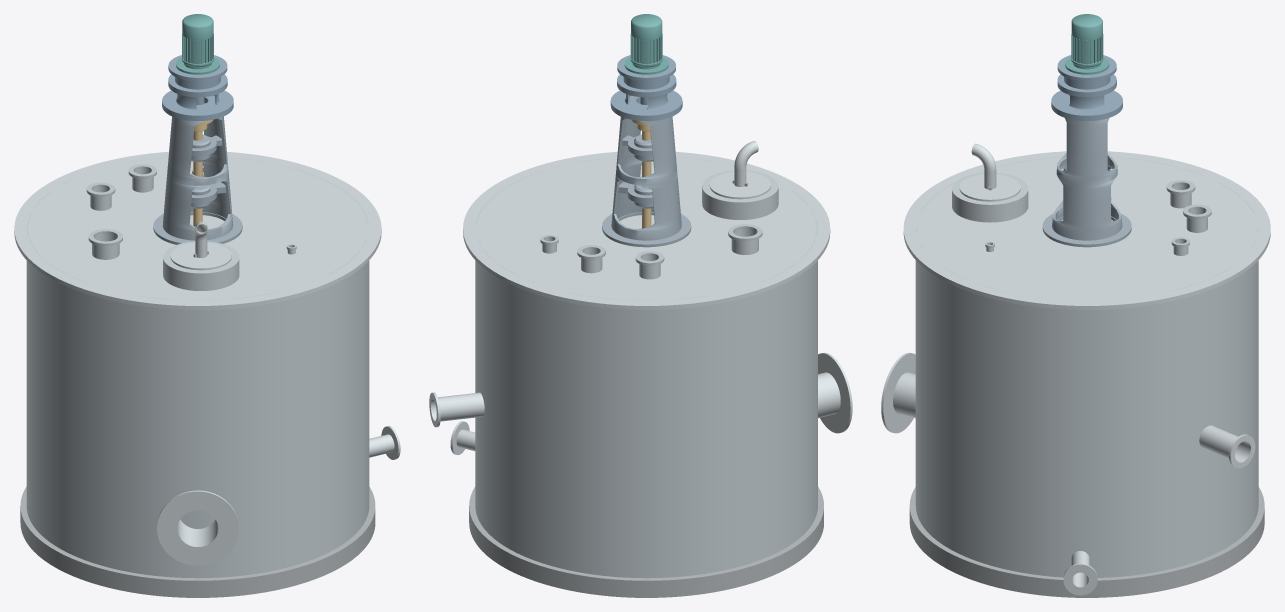
3 renders of one model, left to right at view 1: azimuth 30°, elevation 25°; view 2: azimuth 150°, elevation 25°; view 3: azimuth 270°, elevation 25°, orthographic.
Visible parts, largest first — view 1: 本体_筒壳, 槽盖_盖板, 支撑_环形底座, 支架_06_Tapered_window_frame_with_bored_seats, 接口_西南检修法兰, 接口_人孔座圈, 驱动_01_Motor, 接口_人孔盖, 驱动_02_Base_flange_top, 支架_06_Frame_foot, 接口_西南检修接管, 驱动_02_Upper_mount_flange (+2 smaller); view 2: 本体_筒壳, 槽盖_盖板, 支撑_环形底座, 支架_06_Tapered_window_frame_with_bored_seats, 接口_人孔座圈, 驱动_01_Motor, 接口_西南检修法兰, 接口_人孔盖, 驱动_02_Base_flange_top, 接口_东北侧接管, 支架_06_Frame_foot, 接口_西南检修接管 (+2 smaller); view 3: 本体_筒壳, 槽盖_盖板, 支撑_环形底座, 支架_06_Tapered_window_frame_with_bored_seats, 接口_人孔座圈, 驱动_01_Motor, 接口_西南检修法兰, 接口_人孔盖, 驱动_02_Base_flange_top, 接口_东北侧接管, 支架_06_Frame_foot, 接口_西南检修接管 (+3 smaller).
Part boxes in pixels (bbox=[...]): 本体_筒壳: bbox=[26, 157, 369, 578]; 槽盖_盖板: bbox=[14, 152, 381, 309]; 支撑_环形底座: bbox=[20, 486, 375, 597]; 支架_06_Tapered_window_frame_with_bored_seats: bbox=[162, 102, 233, 240]; 接口_西南检修法兰: bbox=[157, 490, 238, 565]; 接口_人孔座圈: bbox=[163, 241, 239, 290]; 驱动_01_Motor: bbox=[176, 14, 219, 74]; 接口_人孔盖: bbox=[170, 243, 231, 270]; 驱动_02_Base_flange_top: bbox=[162, 90, 233, 118]; 支架_06_Frame_foot: bbox=[153, 212, 242, 244]; 接口_西南检修接管: bbox=[177, 519, 218, 545]; 驱动_02_Upper_mount_flange: bbox=[168, 55, 227, 81]; 本体_筒壳: bbox=[475, 157, 817, 578]; 槽盖_盖板: bbox=[463, 152, 830, 309]; 支撑_环形底座: bbox=[469, 486, 823, 597]; 支架_06_Tapered_window_frame_with_bored_seats: bbox=[611, 102, 681, 240]; 接口_人孔座圈: bbox=[702, 170, 778, 219]; 驱动_01_Motor: bbox=[624, 14, 668, 74]; 接口_西南检修法兰: bbox=[818, 352, 852, 433]; 接口_人孔盖: bbox=[709, 172, 770, 199]; 驱动_02_Base_flange_top: bbox=[610, 90, 682, 118]; 接口_东北侧接管: bbox=[433, 392, 484, 421]; 支架_06_Frame_foot: bbox=[602, 212, 691, 247]; 接口_西南检修接管: bbox=[818, 372, 840, 418]; 本体_筒壳: bbox=[915, 156, 1258, 577]; 槽盖_盖板: bbox=[903, 151, 1270, 309]; 支撑_环形底座: bbox=[909, 487, 1264, 597]; 支架_06_Tapered_window_frame_with_bored_seats: bbox=[1052, 118, 1122, 240]; 接口_人孔座圈: bbox=[952, 172, 1028, 222]; 驱动_01_Motor: bbox=[1065, 14, 1109, 74]; 接口_西南检修法兰: bbox=[881, 352, 915, 433]; 接口_人孔盖: bbox=[959, 174, 1020, 201]; 驱动_02_Base_flange_top: bbox=[1051, 90, 1122, 118]; 接口_东北侧接管: bbox=[1199, 425, 1249, 461]; 支架_06_Frame_foot: bbox=[1042, 213, 1131, 247]; 接口_西南检修接管: bbox=[893, 372, 915, 418].
Bounding box in the file's own units: 3.3 × 4.54 × 3.18.
